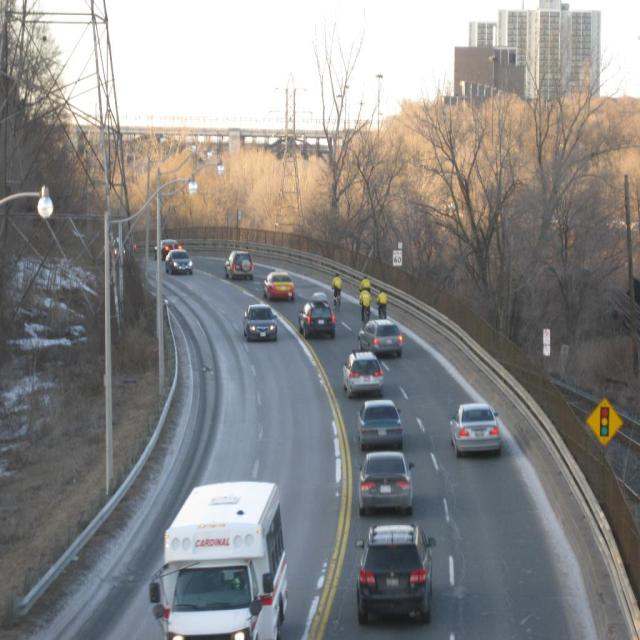Car: (358, 525, 438, 628), (356, 452, 414, 516), (448, 403, 502, 460), (356, 399, 402, 448), (343, 350, 382, 398), (358, 317, 402, 358), (300, 291, 335, 341), (243, 305, 278, 342), (264, 271, 296, 304), (225, 252, 254, 280), (163, 250, 191, 278), (153, 240, 183, 258), (110, 236, 136, 254)
